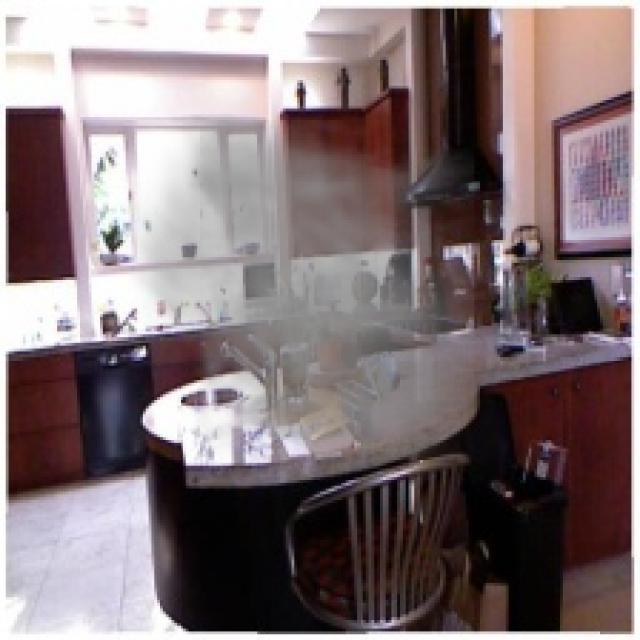Smoke: (120, 114, 474, 463)
